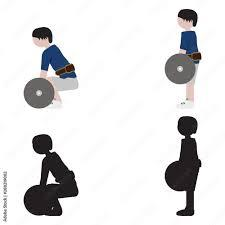Barbell: (37, 90, 45, 98), (178, 66, 185, 73)
